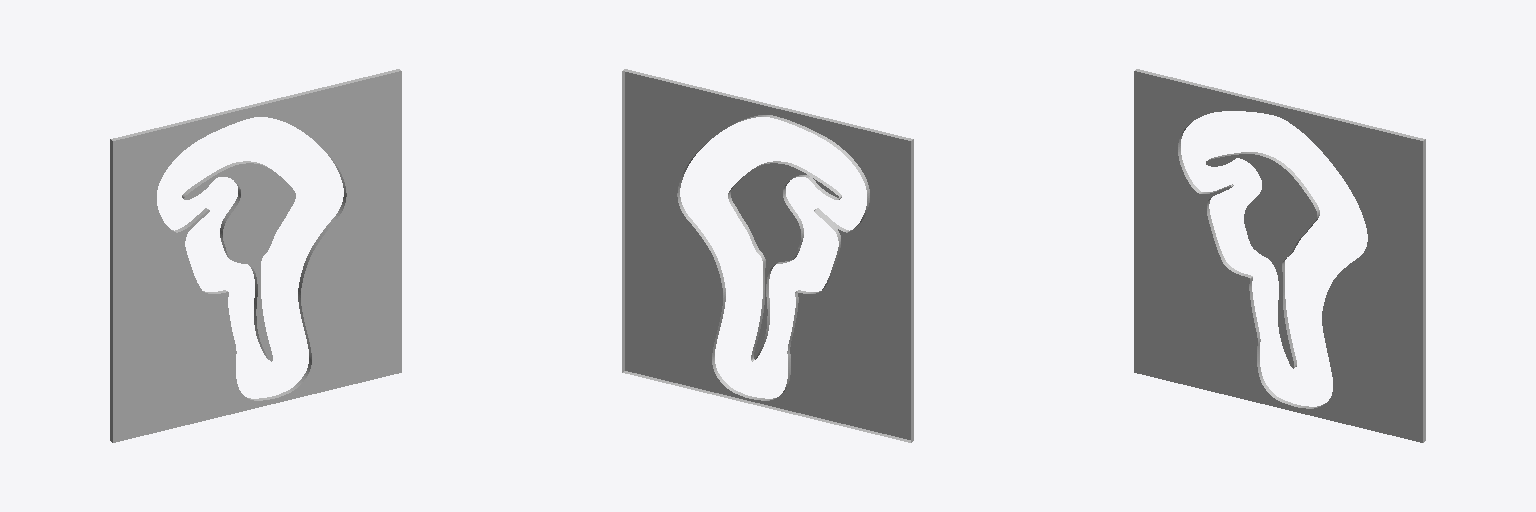
Rendered from walls.obj.
3 renders of one model, left to right at view 1: azimuth 30°, elevation 25°; view 2: azimuth 150°, elevation 25°; view 3: azimuth 330°, elevation 25°, orthographic.
Visible parts, largest first — view 1: Walls_Plane; view 2: Walls_Plane; view 3: Walls_Plane.
Boxes of the visible parts, x1,y1,x2,y2 form: Walls_Plane: [110, 69, 401, 442]; Walls_Plane: [622, 69, 913, 442]; Walls_Plane: [1134, 69, 1425, 442].
Size of the model in its own units: 30 by 30 by 0.5.